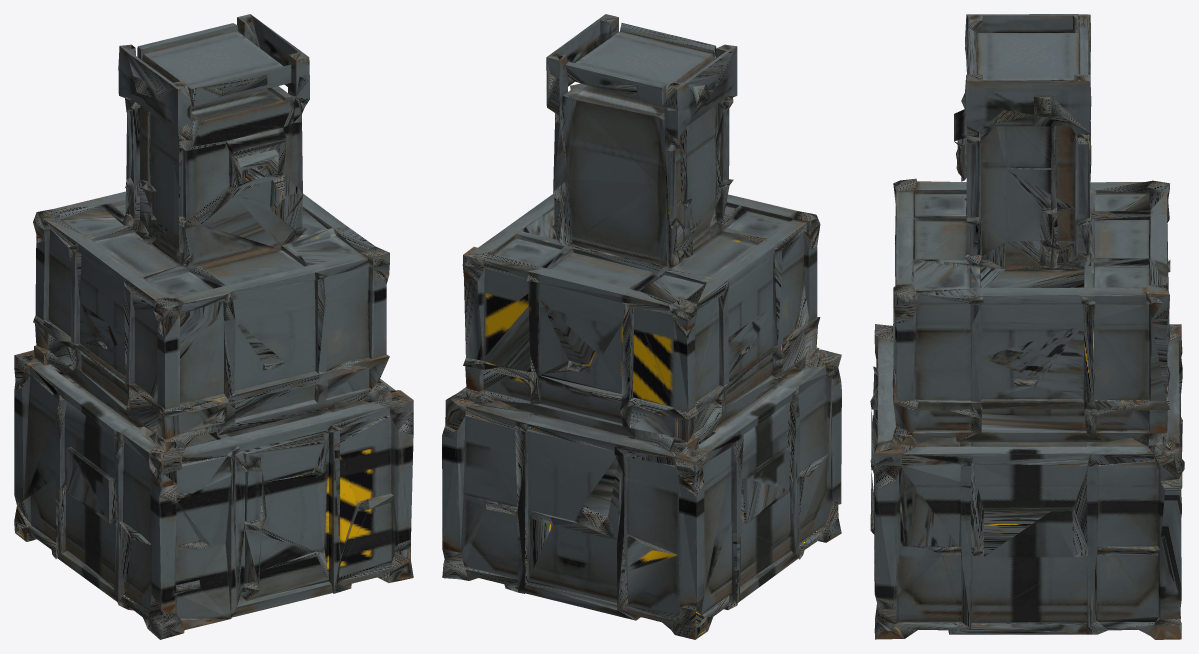
Rendered from cover_full_dock_v1.glb.
3 views of the same model, side by side, from view 1: azimuth 30°, elevation 25°; view 2: azimuth 150°, elevation 25°; view 3: azimuth 270°, elevation 25° (orthographic). The views are drawn at different scales.
Bounding box in the file's own units: 0.9825 × 1.85 × 0.9975.
Materials: 1 (1 with a texture image).
